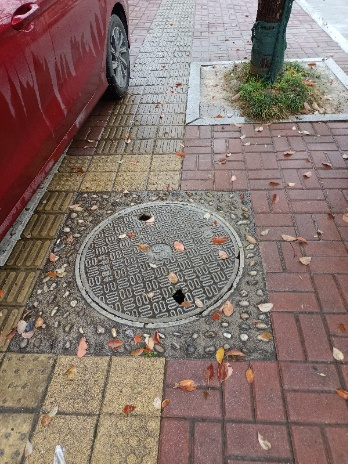good: (74, 201, 244, 327)
